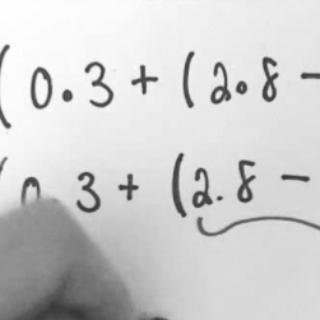.: (233, 78, 247, 97), (61, 85, 73, 105), (216, 193, 225, 204)
0: (26, 62, 58, 111)
2: (208, 59, 233, 107), (191, 165, 214, 209)
3: (81, 58, 115, 111), (73, 170, 103, 214)
8: (256, 53, 284, 107), (234, 157, 261, 205)
